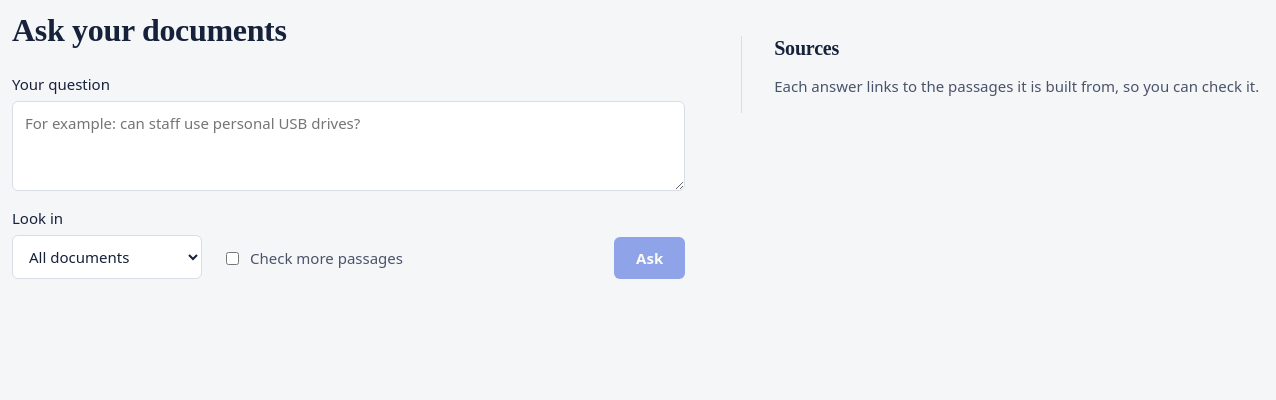
Scenario: Ask › explains when nothing was found and shows no sources
Type "What is the vacation policy?" into the text box labelled "Your question". click: (349, 146)
box: [12,101,685,191]
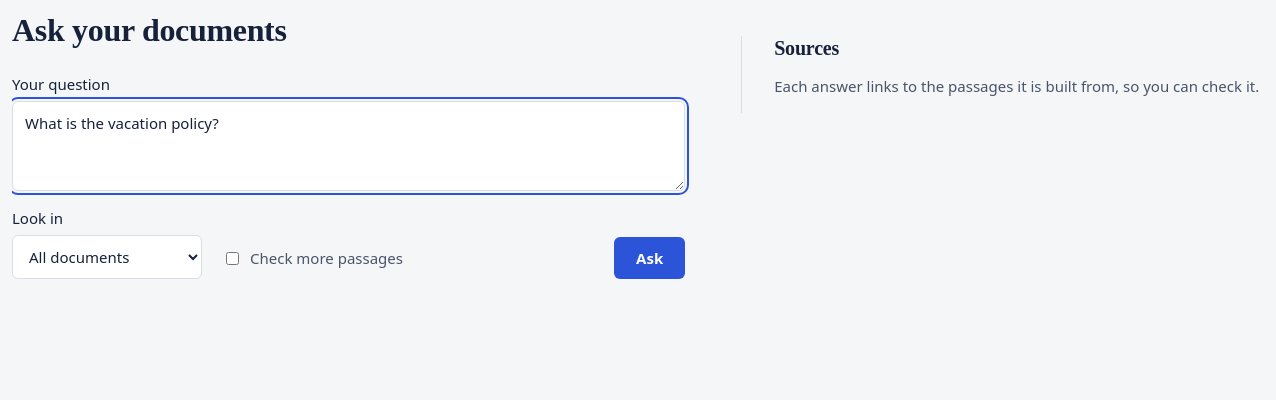
Click the button "Ask". click: (650, 258)
box: [614,237,685,279]
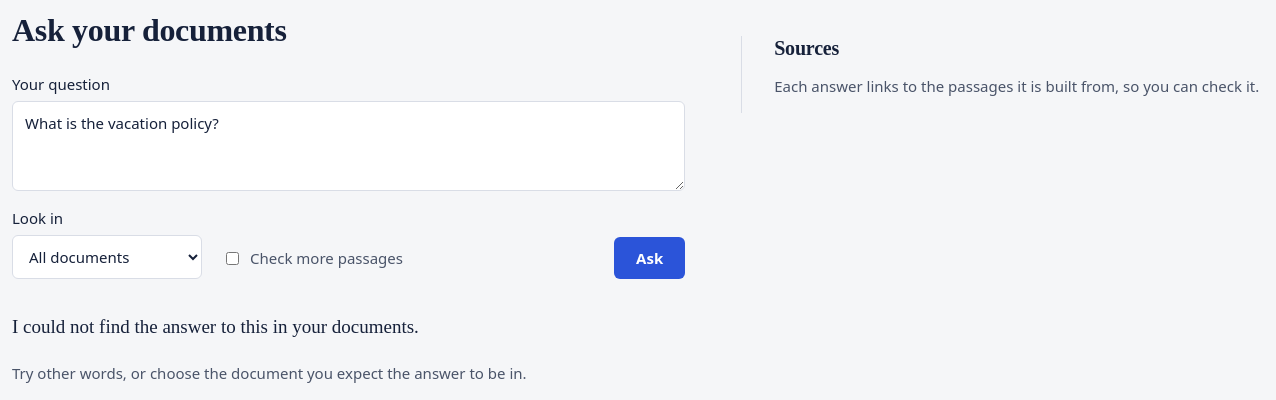
Expected: the text "Each answer links to the passages" is shown, [774,76,1259,96]
Result: the text "I could not find the answer to this in your documents." is shown at [12,316,419,337]
